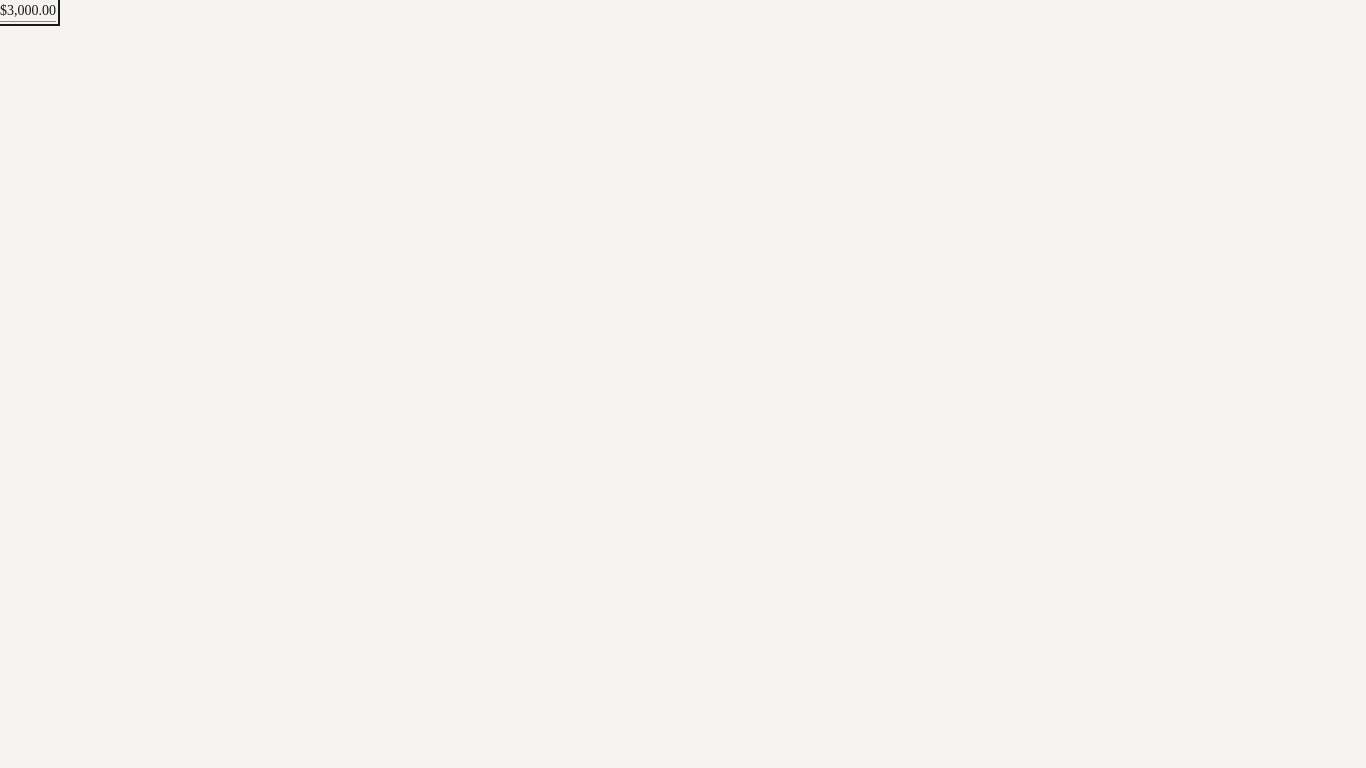
Test case: ExplicarProvider (panel premium) › abre como dialogo modal con la cifra, el estado y las secciones con datos
What coordinates should you click on to do the following:
click the button with class "rtm-cifra"
I would click on:
 (28, 11)
Its box is [0, 0, 56, 22].
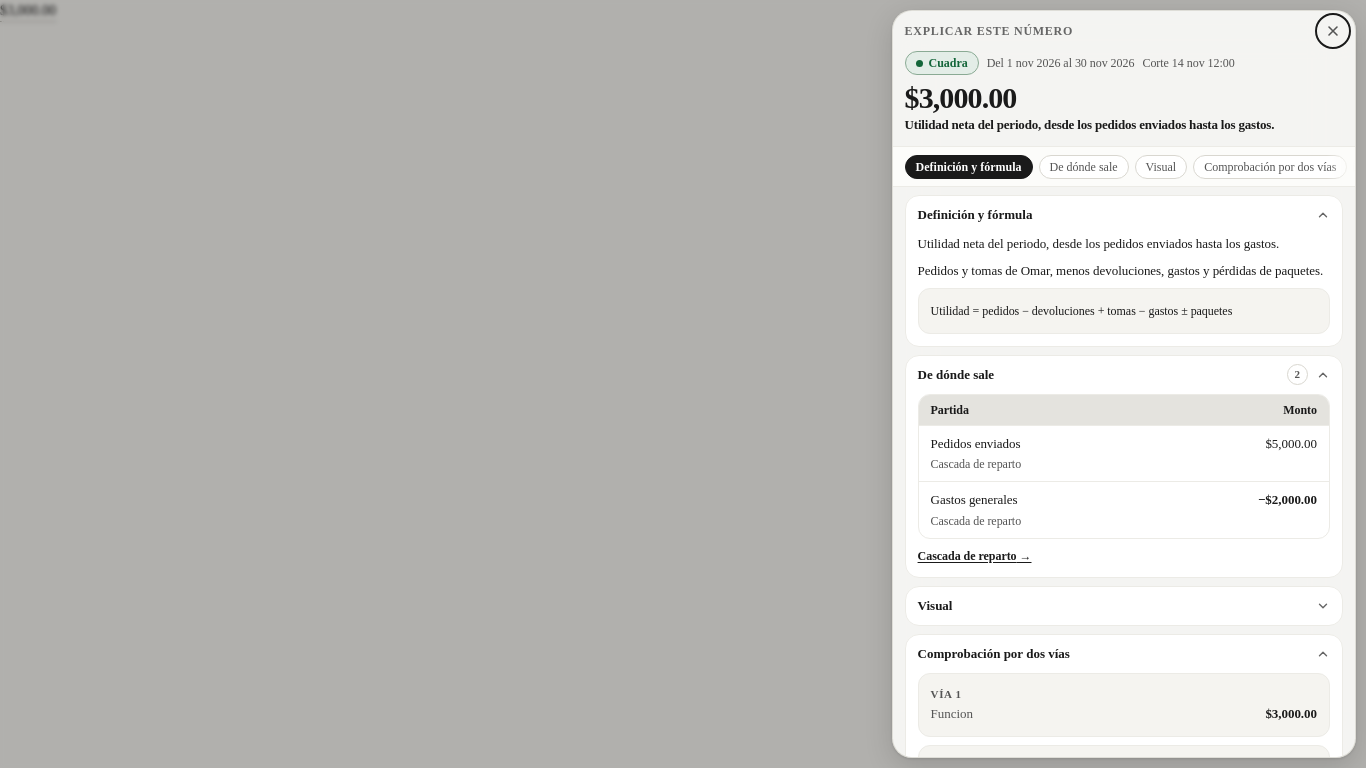
Check: the text with test id "explicar-cifra" reads "$3,000.00", box [905, 81, 1016, 114]
Check: the text with test id "explicar-estado" reads "Cuadra", box [929, 56, 968, 70]
Check: the element with test id "explicar-formula" is shown, box [918, 288, 1330, 334]
